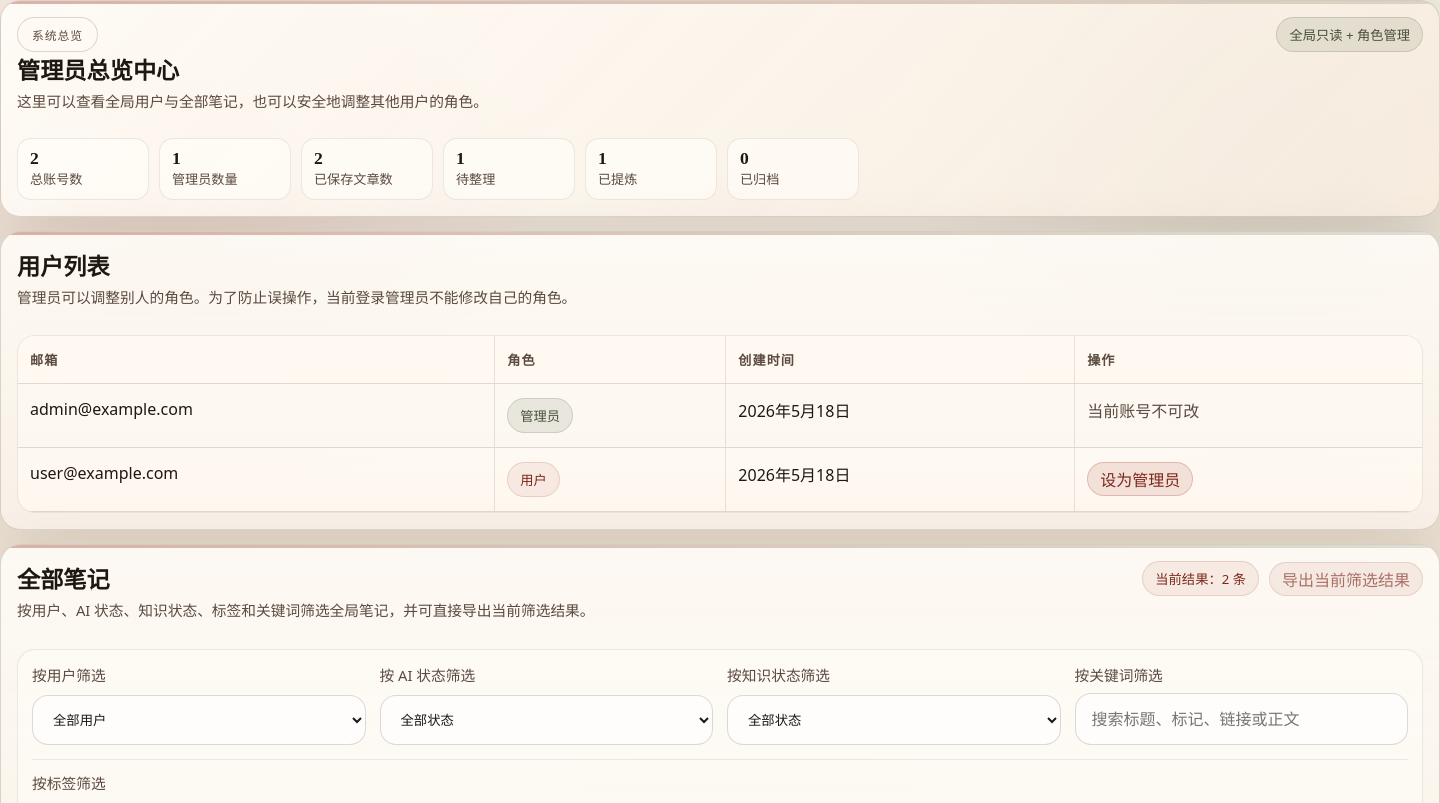
Scenario: AdminOverview › updates role feedback after a successful role change
This screenshot has width=1440, height=803.
Click the button "设为管理员". click: (1140, 479)
box: x1=1087 y1=462 x2=1193 y2=496
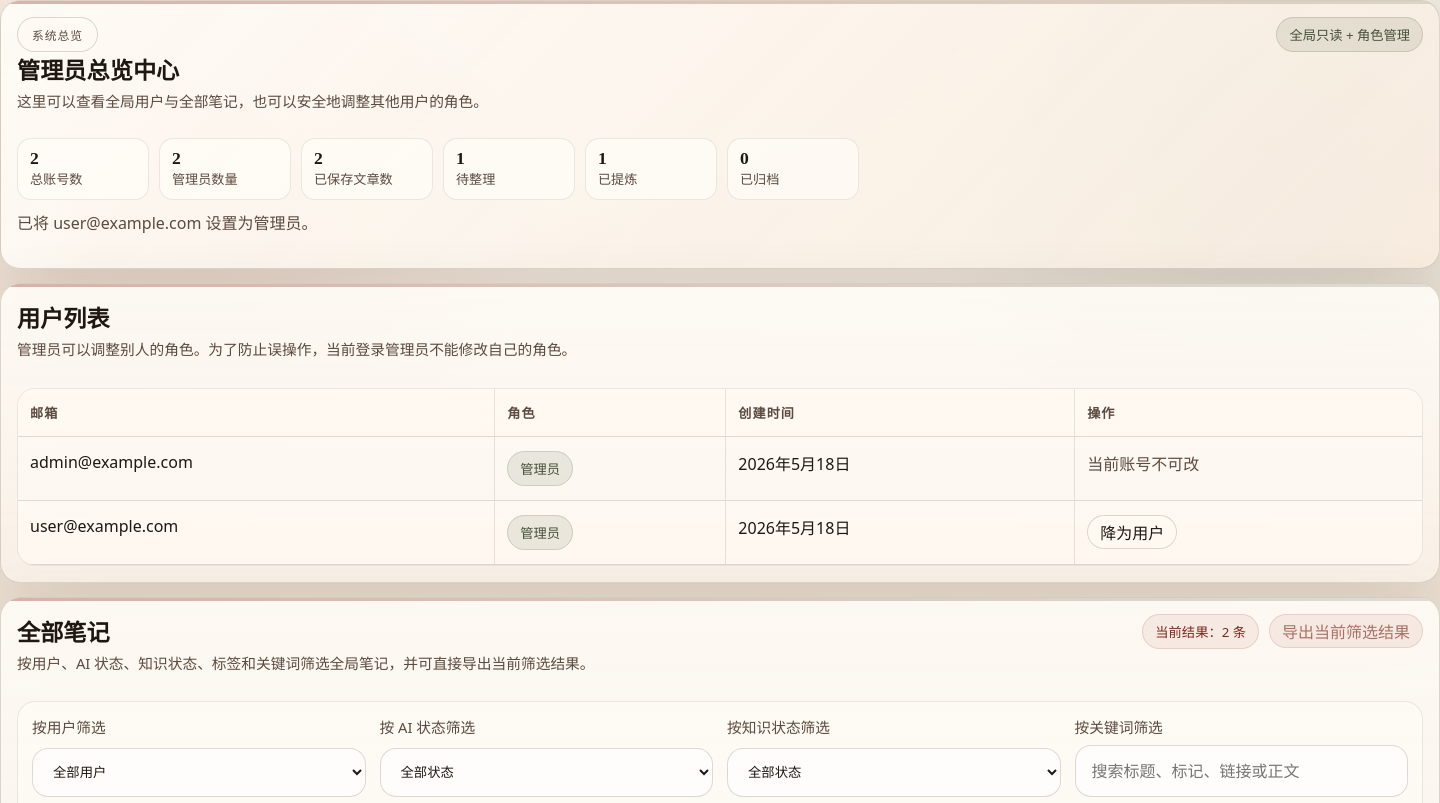
Expected: the text "已将 user@example.com 设置为管理员。" is shown, x1=17 y1=212 x2=318 y2=234
